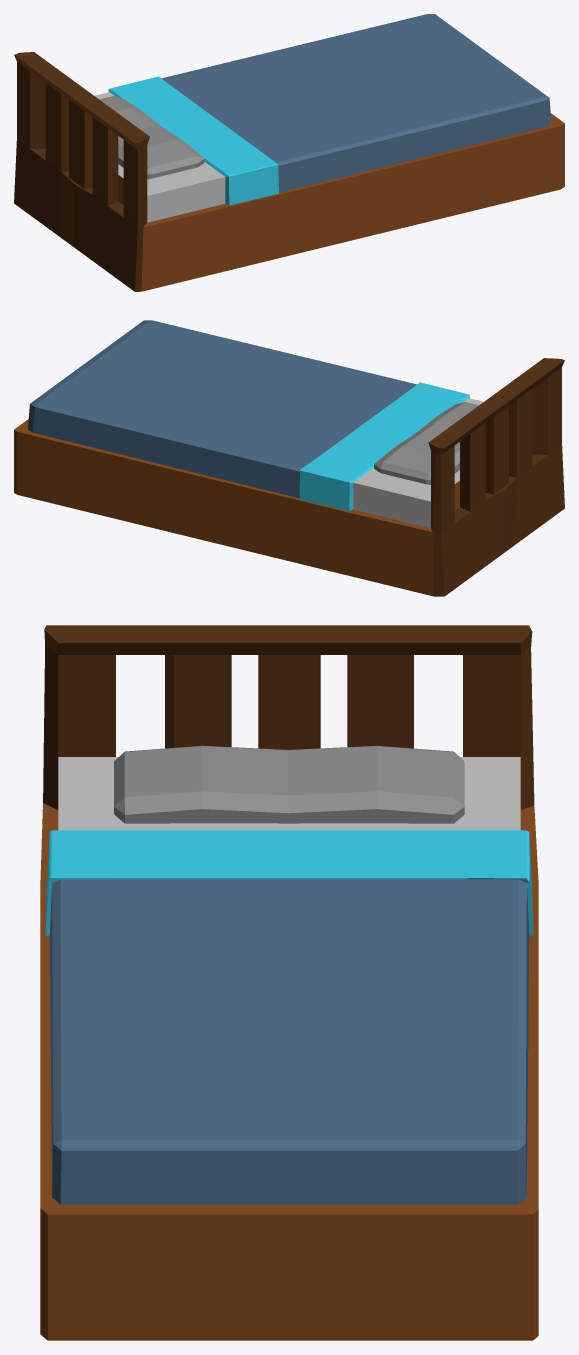
Rendered from SM_Bed.fbx.
The picture shows the model from 3 angles, top to bottom: view 1: azimuth 30°, elevation 25°; view 2: azimuth 150°, elevation 25°; view 3: azimuth 270°, elevation 25°; orthographic projection. The views are drawn at different scales.
Visible parts, largest first — view 1: SM_Bed; view 2: SM_Bed; view 3: SM_Bed.
Part boxes in pixels (x1,y1,x2,y2): SM_Bed: [14, 14, 564, 291]; SM_Bed: [14, 320, 564, 596]; SM_Bed: [40, 625, 538, 1340].
Size of the model in its own units: 288 by 95.11 by 145.
